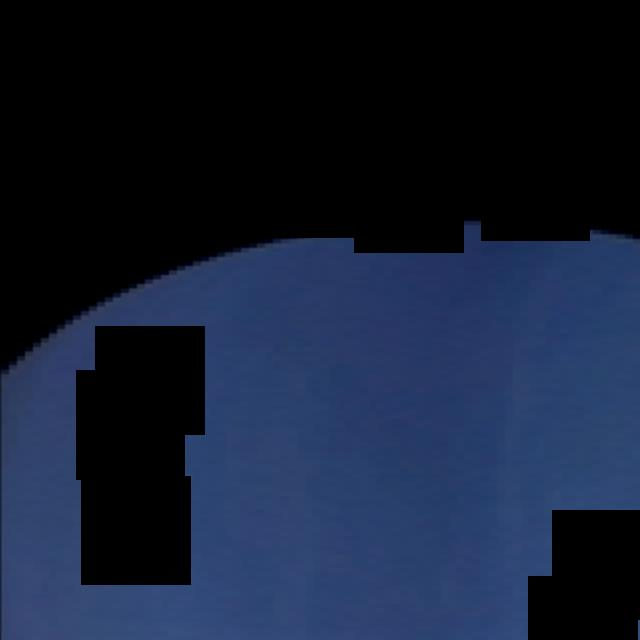Neptune: (0, 226, 640, 640)
